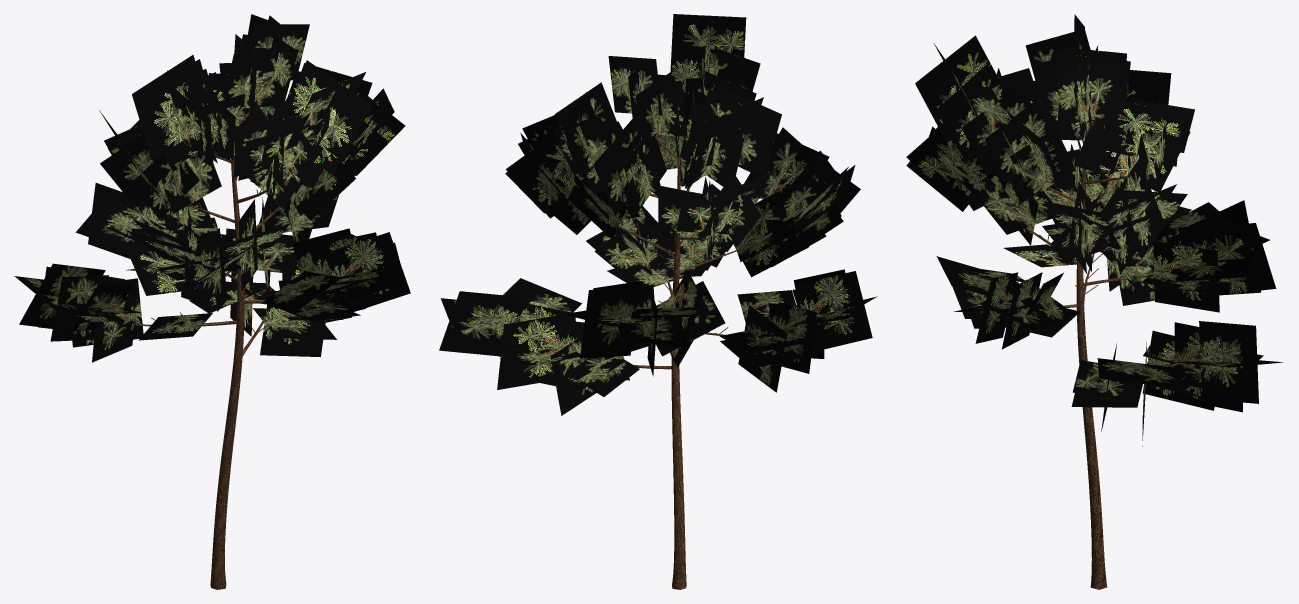
Rendered from tree_pine_v0_l1.glb.
3 views of the same model, side by side, from view 1: azimuth 30°, elevation 25°; view 2: azimuth 150°, elevation 25°; view 3: azimuth 270°, elevation 25° (orthographic). The views are drawn at different scales.
Visible parts, largest first — view 1: tree_pine_v0_l1; view 2: tree_pine_v0_l1; view 3: tree_pine_v0_l1.
Boxes of the visible parts, x1,y1,x2,y2 form: tree_pine_v0_l1: (14,14,410,589); tree_pine_v0_l1: (439,14,877,589); tree_pine_v0_l1: (906,14,1283,589).
Size of the model in its own units: 10.37 by 14.14 by 8.61.
Materials: 2 (2 with a texture image).
